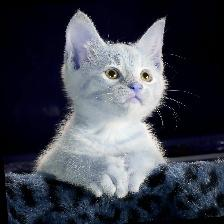kedo: (37, 11, 171, 198)
